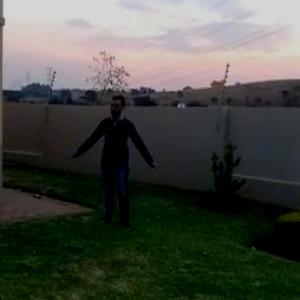land: (68, 93, 167, 234)
